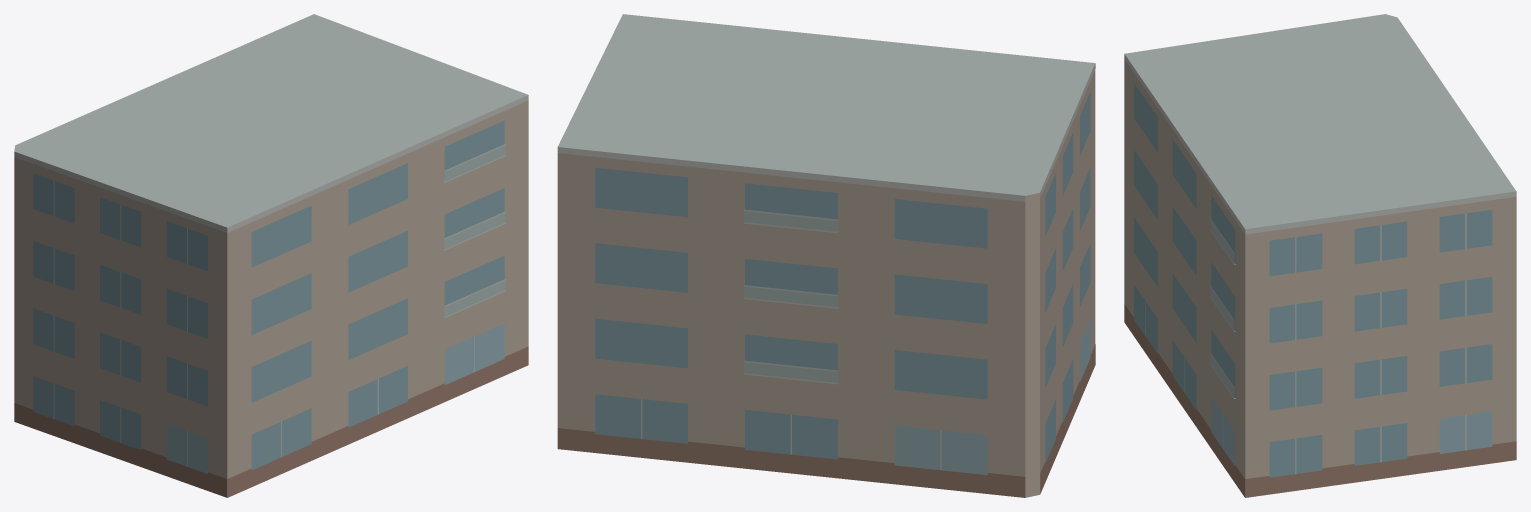
The model's file is survey-upis-32772864.glb.
The picture shows the model from 3 angles, left to right: view 1: azimuth 30°, elevation 25°; view 2: azimuth 150°, elevation 25°; view 3: azimuth 270°, elevation 25°; orthographic projection. The views are drawn at different scales.
Visible parts, largest first — view 1: survey-upis-32772864.tmp; view 2: survey-upis-32772864.tmp; view 3: survey-upis-32772864.tmp.
Part boxes in pixels (left/top/right/bottom): survey-upis-32772864.tmp: left=14, top=14, right=528, bottom=497; survey-upis-32772864.tmp: left=557, top=14, right=1095, bottom=497; survey-upis-32772864.tmp: left=1124, top=14, right=1516, bottom=497.
Size of the model in its own units: 20.98 by 12.2 by 16.15.
